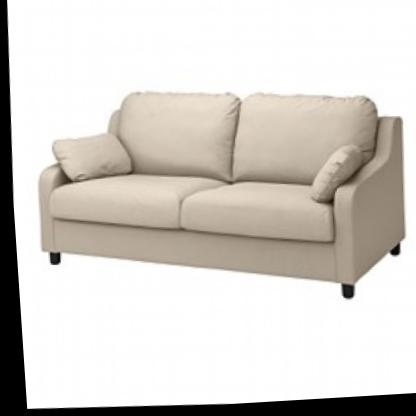Sofa: (14, 58, 416, 339)
